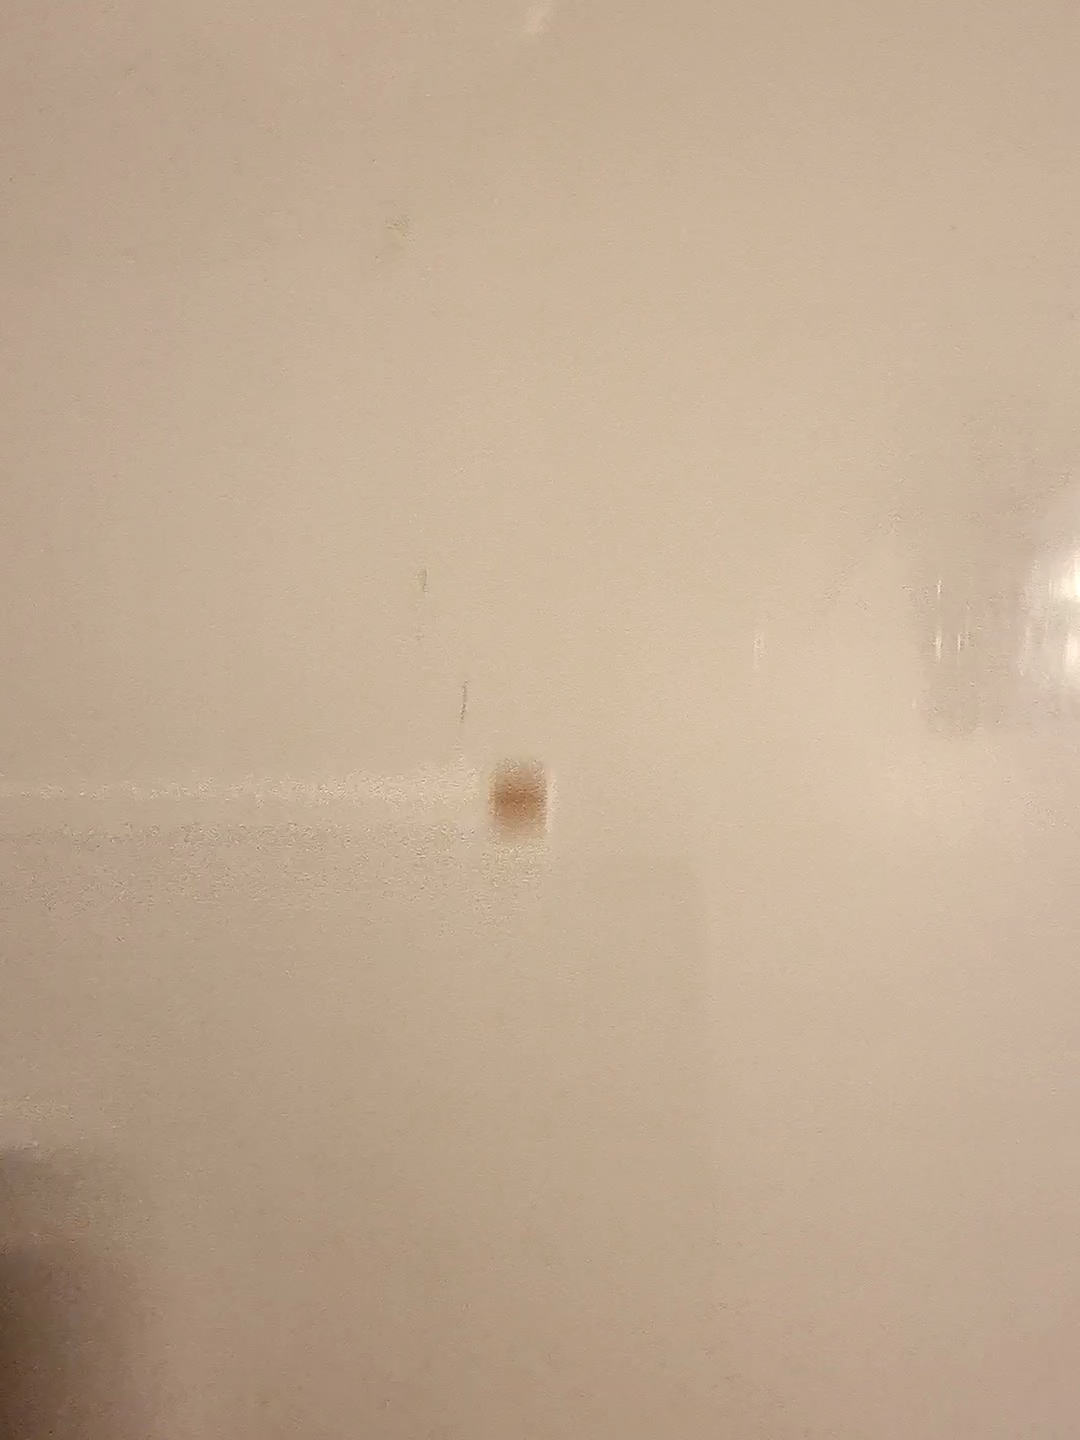keto-tip: (480, 759, 562, 847)
